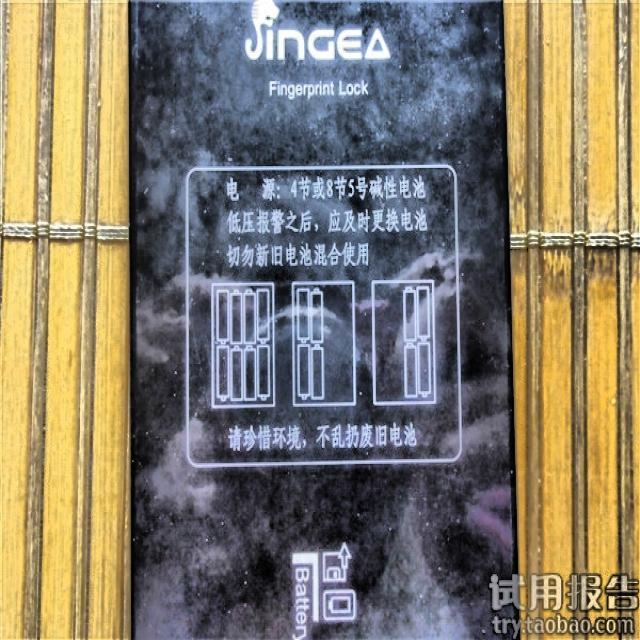battery: (131, 2, 519, 638)
